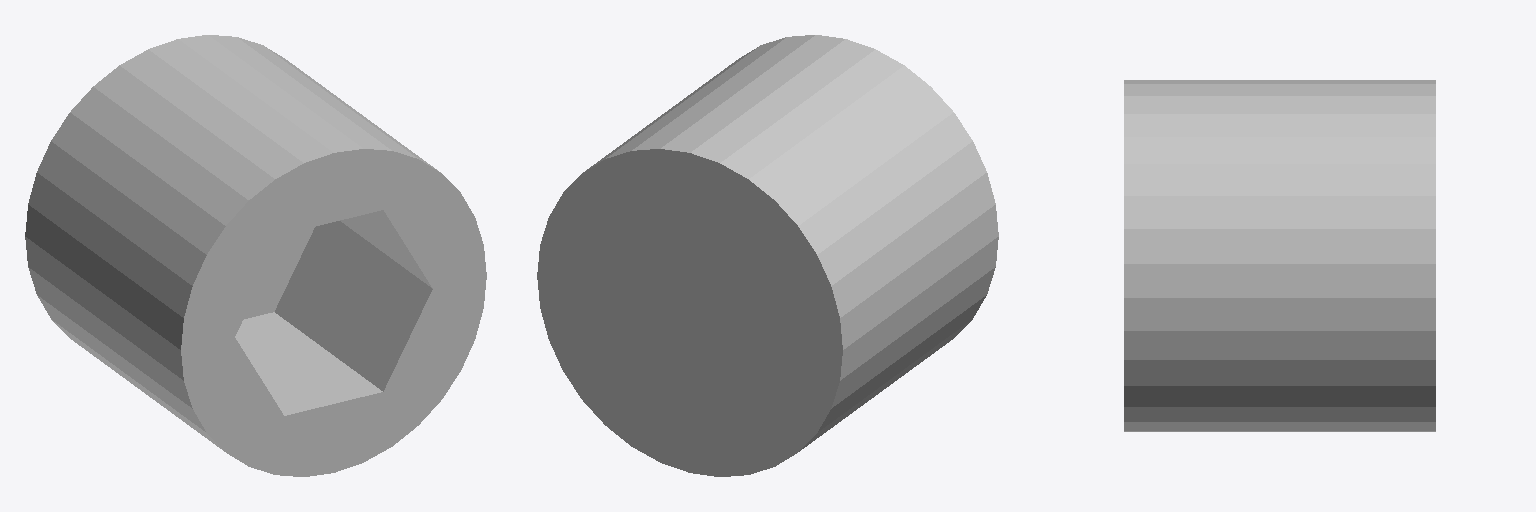
The model's file is hexagon_short.obj.
3 renders of one model, left to right at view 1: azimuth 30°, elevation 25°; view 2: azimuth 150°, elevation 25°; view 3: azimuth 270°, elevation 25°, orthographic.
Parts seen in each view (by area): view 1: slot_hexagon_short; view 2: slot_hexagon_short; view 3: slot_hexagon_short.
Boxes of the visible parts, x1,y1,x2,y2 form: slot_hexagon_short: [25, 35, 486, 476]; slot_hexagon_short: [537, 35, 998, 476]; slot_hexagon_short: [1124, 80, 1435, 431].
Size of the model in its own units: 0.034 by 0.034 by 0.03.